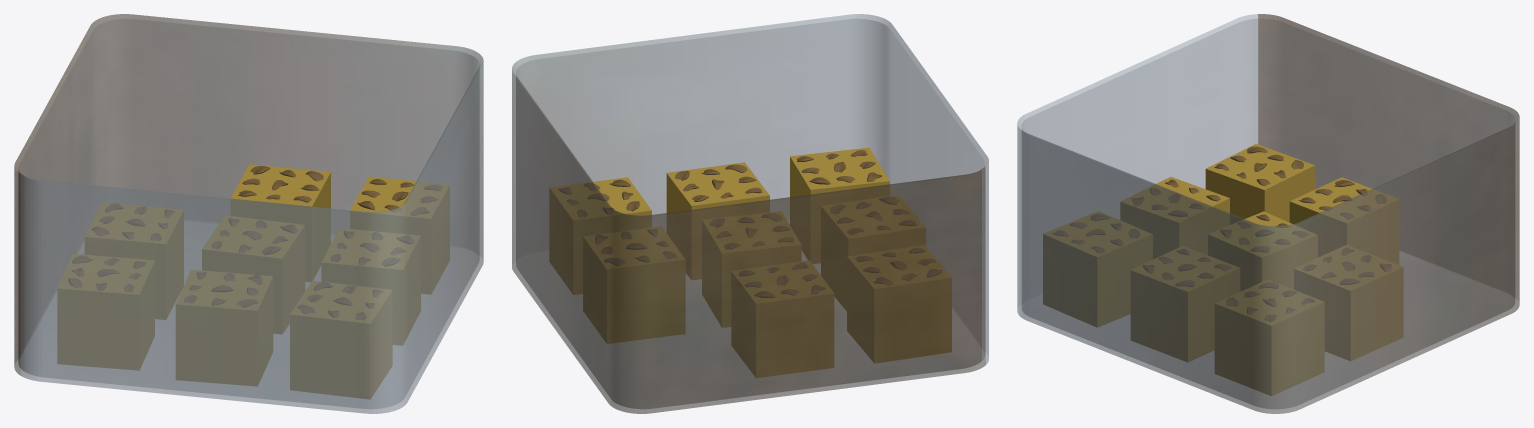
Rendered from firstRoot.glb.
3 views of the same model, side by side, from view 1: azimuth 30°, elevation 25°; view 2: azimuth 150°, elevation 25°; view 3: azimuth 270°, elevation 25° (orthographic). The views are drawn at different scales.
Parts seen in each view (by area): view 1: 1bottomlid, rocwool7, rocwool1, rocwool4, rocwool5, rocwool8, rocwool9, rocwool2, rocwool6, see6, see9, see1 (+5 smaller); view 2: 1bottomlid, rocwool1, rocwool6, rocwool2, rocwool9, rocwool8, rocwool7, rocwool5, rocwool4, see7, see8, see4 (+5 smaller); view 3: 1bottomlid, rocwool9, rocwool7, rocwool8, rocwool6, rocwool2, rocwool1, rocwool4, rocwool5, see1, see2, see5 (+5 smaller).
Boxes of the visible parts, x1,y1,x2,y2 form: 1bottomlid: (14, 14, 483, 413); rocwool7: (290, 281, 392, 399); rocwool1: (57, 254, 154, 370); rocwool4: (176, 270, 272, 386); rocwool5: (202, 215, 304, 334); rocwool8: (321, 228, 420, 345); rocwool9: (350, 176, 449, 294); rocwool2: (85, 202, 183, 319); rocwool6: (231, 164, 330, 281); see6: (238, 166, 323, 202); see9: (357, 179, 442, 215); see1: (68, 256, 146, 291); 1bottomlid: (512, 14, 988, 413); rocwool1: (847, 245, 951, 363); rocwool6: (583, 226, 685, 343); rocwool2: (731, 260, 833, 377); rocwool9: (549, 177, 651, 294); rocwool8: (666, 162, 769, 279); rocwool7: (790, 147, 889, 263); rocwool5: (702, 211, 801, 327); rocwool4: (821, 195, 925, 310); see7: (797, 150, 881, 184); see8: (675, 164, 762, 201); see4: (830, 197, 916, 234); 1bottomlid: (1017, 14, 1519, 413); rocwool9: (1215, 280, 1324, 395); rocwool7: (1043, 211, 1152, 327); rocwool8: (1131, 246, 1239, 361); rocwool6: (1294, 245, 1403, 360); rocwool2: (1289, 177, 1398, 264); rocwool1: (1205, 144, 1315, 224); rocwool4: (1120, 177, 1229, 258); rocwool5: (1208, 211, 1317, 290); see1: (1214, 146, 1303, 186); see2: (1298, 180, 1386, 219); see5: (1220, 214, 1308, 252).
Size of the model in its own units: 5.35 by 2.21 by 5.35.
72 materials, 1 textured.
